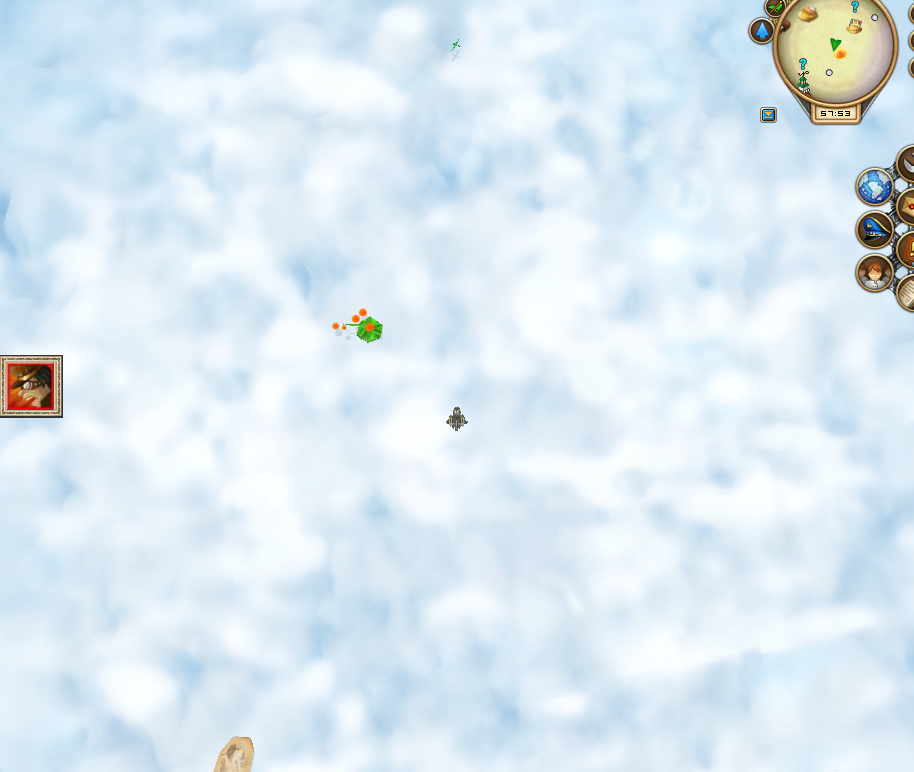dandelion-full: (331, 305, 387, 347)
